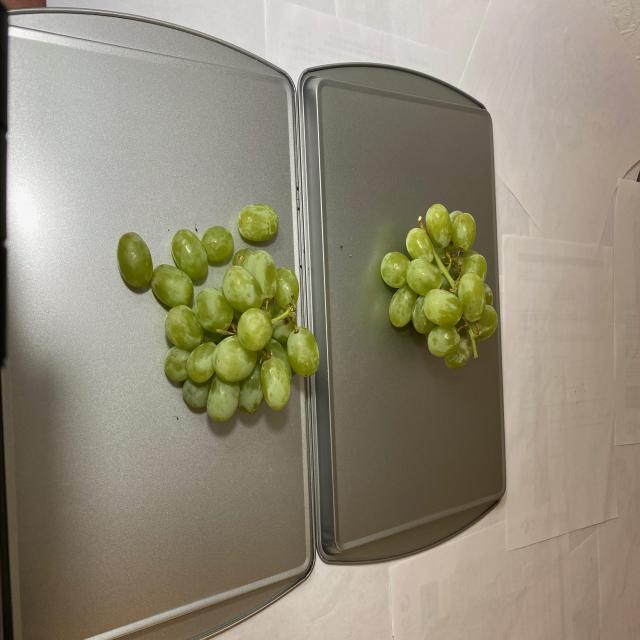Grapes: (118, 206, 319, 431), (375, 206, 498, 368)
